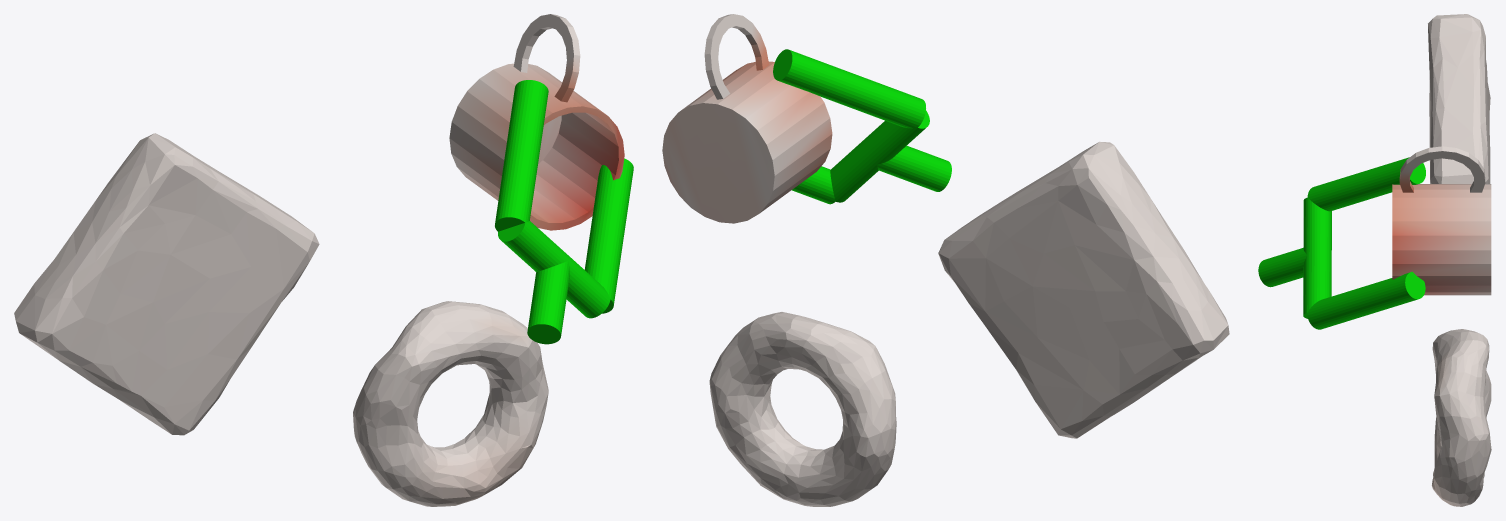
The model's file is round_000_trial_002.obj.
3 views of the same model, side by side, from view 1: azimuth 30°, elevation 25°; view 2: azimuth 150°, elevation 25°; view 3: azimuth 270°, elevation 25° (orthographic). The views are drawn at different scales.
Parts seen in each view (by area): view 1: geometry_0, geometry_1; view 2: geometry_0, geometry_1; view 3: geometry_0, geometry_1.
Boxes of the visible parts, left/top/right/bottom form: geometry_0: left=14, top=14, right=624, bottom=506; geometry_1: left=495, top=80, right=633, bottom=344; geometry_0: left=662, top=14, right=1229, bottom=506; geometry_1: left=773, top=49, right=951, bottom=204; geometry_0: left=1392, top=14, right=1491, bottom=506; geometry_1: left=1258, top=157, right=1425, bottom=329.
Bounding box in the file's own units: 0.1958 × 0.152 × 0.0823.
